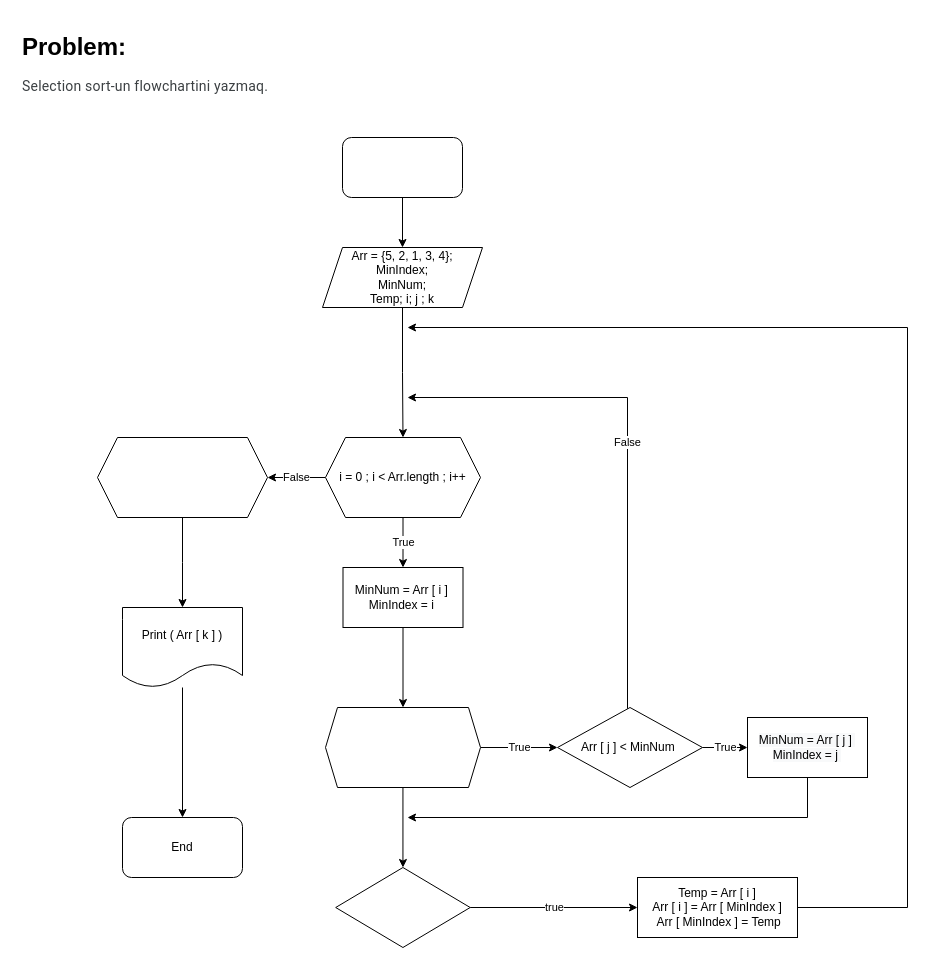
Some shapes in this 933 by 965 pixel diagram are drawn without their labels. Each missing label, with the centre of its shape:
j = i +1 ; j < Arr.length ; j++: point 402,747
k = 0 ; k < Arr.length ; k++: point 182,477
MinNum < Arr [ i ]: point 402,907
Start: point 402,167
